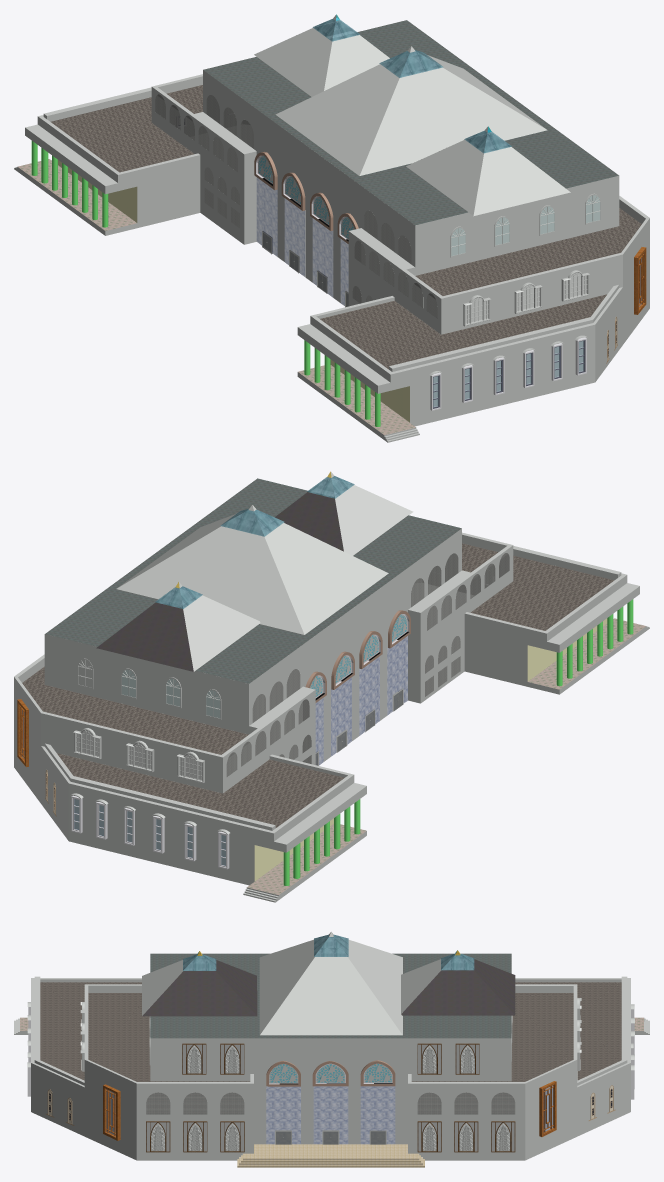
The model's file is masjid-agung-palembang.glb.
The picture shows the model from 3 angles, top to bottom: view 1: azimuth 30°, elevation 25°; view 2: azimuth 150°, elevation 25°; view 3: azimuth 270°, elevation 25°; orthographic projection. The views are drawn at different scales.
Parts seen in each view (by area): view 1: Object_2, Object_6, Object_7, Object_8, Object_9, Object_5, Object_3, Object_44, Object_45; view 2: Object_2, Object_6, Object_7, Object_53, Object_8, Object_9, Object_5, Object_3, Object_44, Object_45; view 3: Object_2, Object_6, Object_53, Object_7, Object_9, Object_5, Object_4, Object_8, Object_46, Object_45, Object_44, Object_51.
Boxes of the visible parts, left/top/right/bottom form: Object_2: left=14, top=14, right=649, bottom=442; Object_6: left=51, top=85, right=641, bottom=369; Object_7: left=203, top=20, right=618, bottom=225; Object_8: left=155, top=94, right=437, bottom=318; Object_9: left=256, top=178, right=348, bottom=305; Object_5: left=259, top=158, right=641, bottom=406; Object_3: left=18, top=159, right=415, bottom=435; Object_44: left=312, top=19, right=511, bottom=153; Object_45: left=634, top=247, right=646, bottom=314; Object_2: left=14, top=471, right=649, bottom=902; Object_6: left=22, top=543, right=613, bottom=827; Object_7: left=45, top=478, right=461, bottom=683; Object_53: left=96, top=492, right=343, bottom=671; Object_8: left=226, top=553, right=509, bottom=776; Object_9: left=315, top=636, right=407, bottom=765; Object_5: left=22, top=616, right=405, bottom=865; Object_3: left=247, top=618, right=645, bottom=894; Object_44: left=155, top=476, right=354, bottom=608; Object_45: left=17, top=699, right=28, bottom=767; Object_2: left=14, top=931, right=649, bottom=1160; Object_6: left=40, top=982, right=621, bottom=1081; Object_53: left=142, top=959, right=515, bottom=1016; Object_7: left=150, top=953, right=511, bottom=1038; Object_9: left=266, top=1086, right=395, bottom=1144; Object_5: left=106, top=1044, right=553, bottom=1151; Object_4: left=237, top=1144, right=424, bottom=1167; Object_8: left=146, top=1092, right=515, bottom=1114; Object_46: left=146, top=1043, right=515, bottom=1152; Object_45: left=103, top=1081, right=556, bottom=1140; Object_44: left=183, top=934, right=474, bottom=970; Object_51: left=270, top=1064, right=391, bottom=1082.
Bounding box in the file's own units: 55.6 × 31.8 × 102.
Materials: 17 (17 with a texture image).
